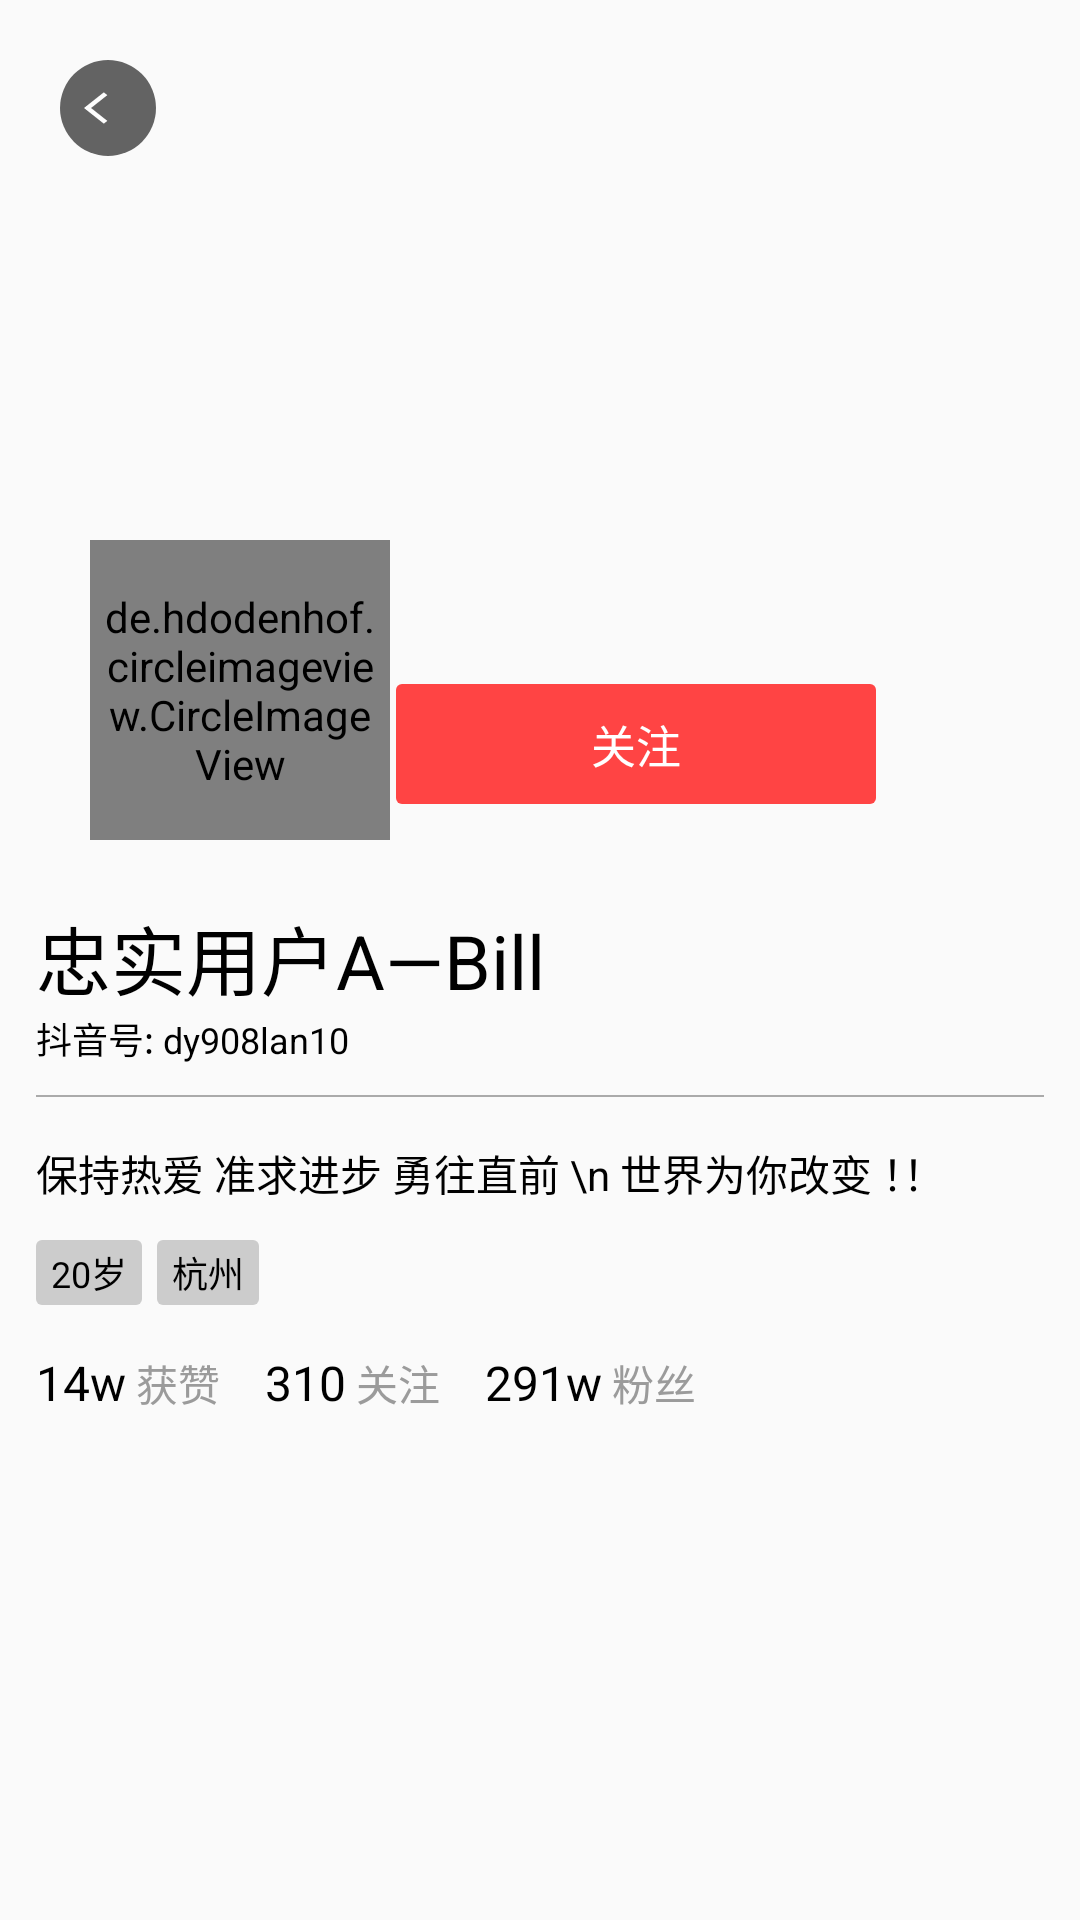

Named icons in this screenshot (1080*1920) and their bounding boxes, (x1, y1, x2, y2):
arrow back: (60, 60, 156, 156)
